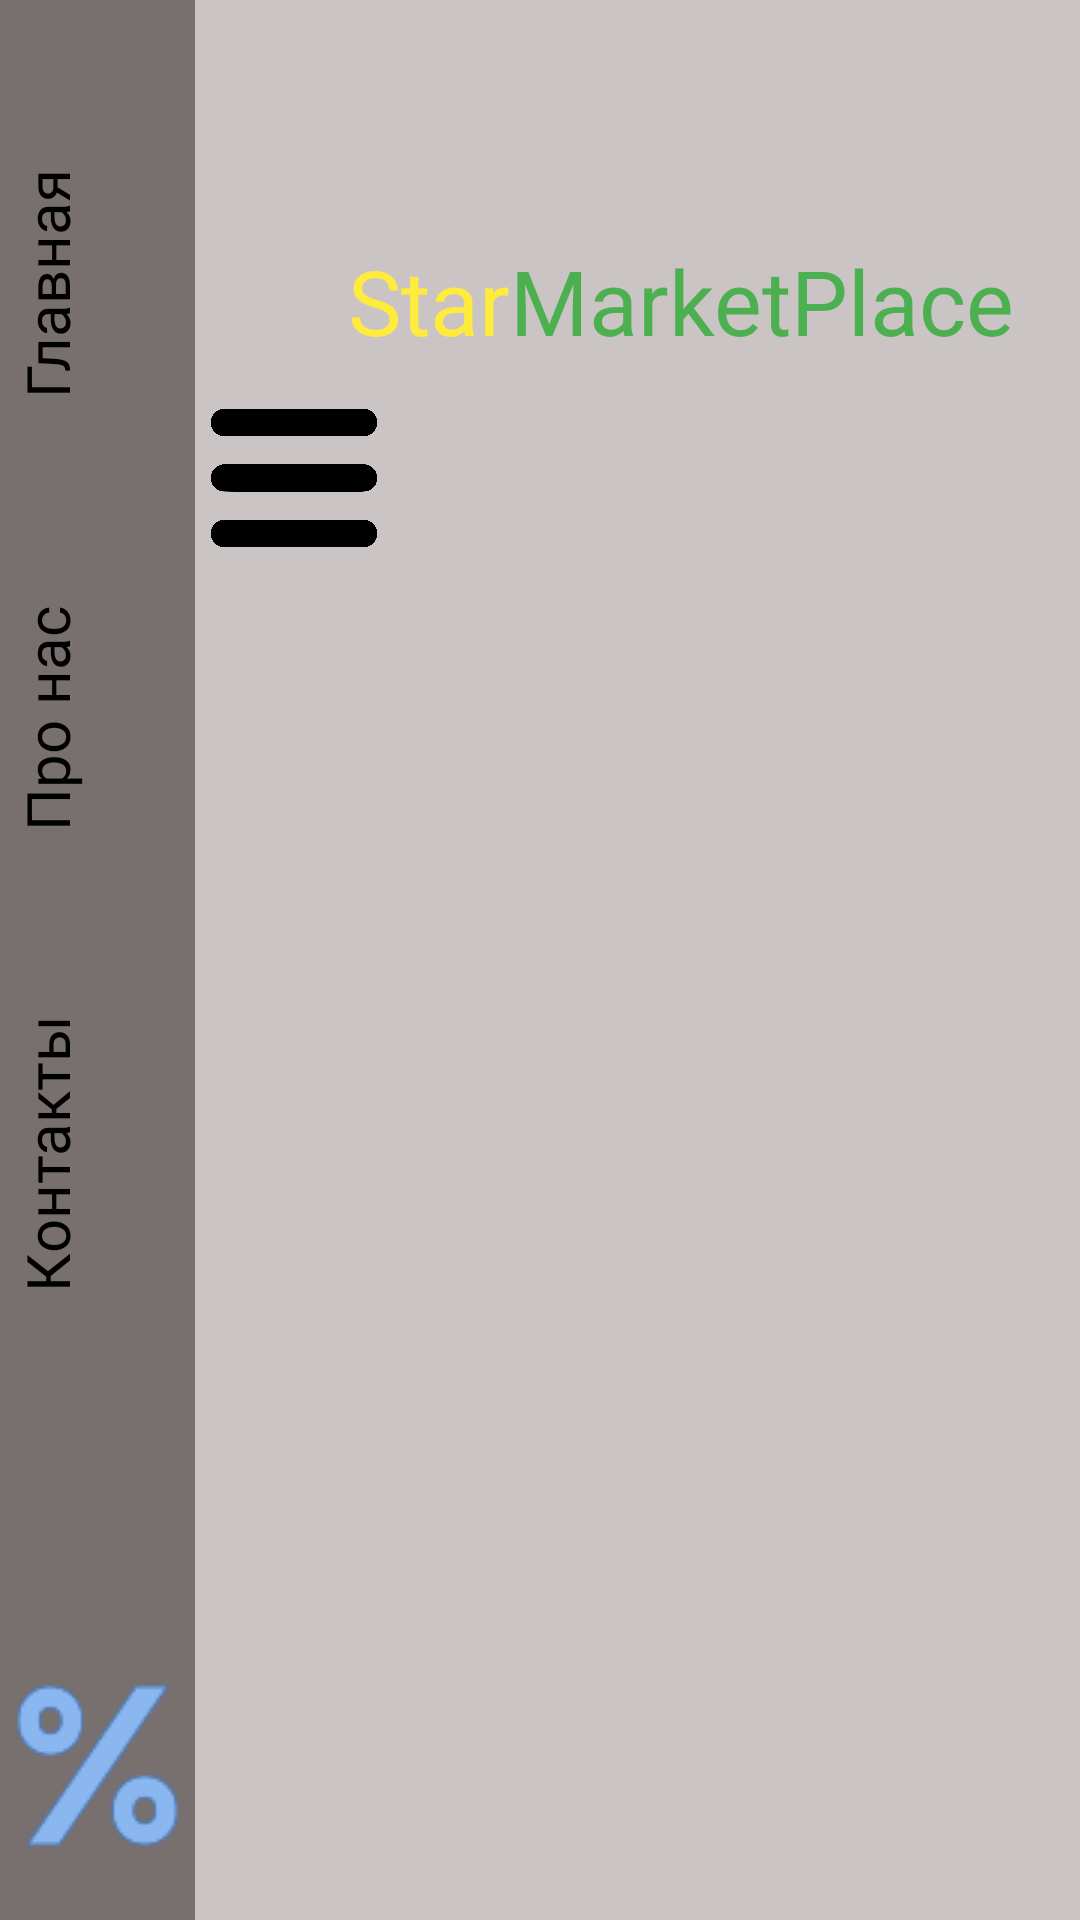

Icon click points for this 1080px×1920px phone screenshot, format (x,y):
burger: (294,478)
percent: (97,1765)
